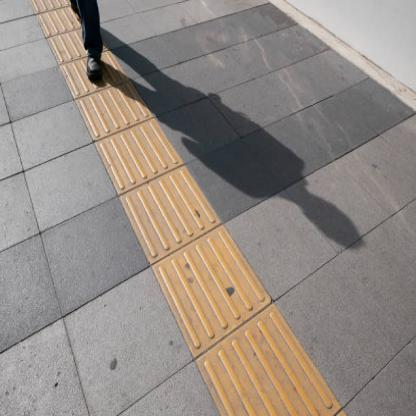podotacti: (75, 76, 345, 416)
